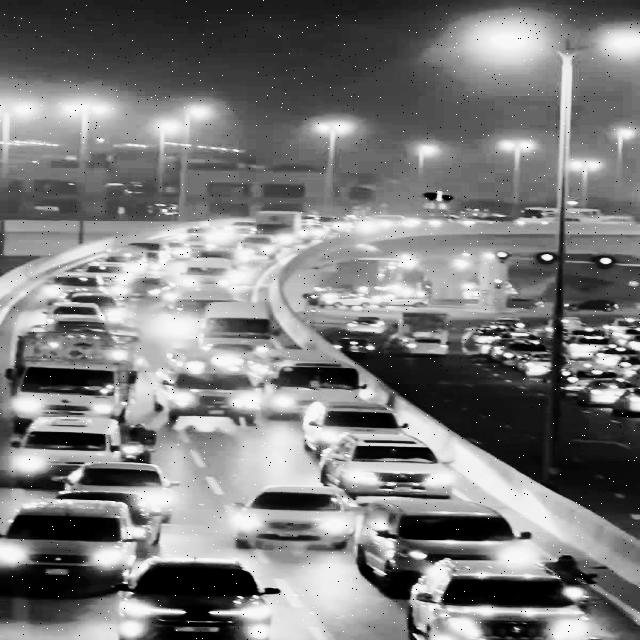Ambulance: (153, 347, 270, 426)
